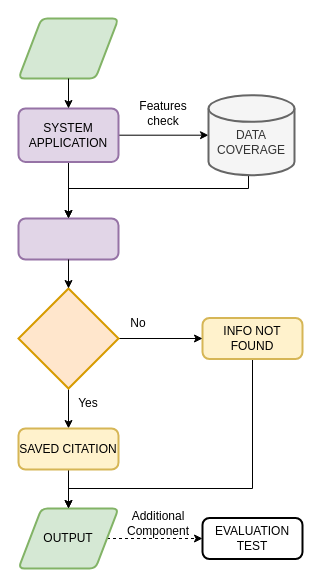
This 320x586 diagram has some shape labels left out. The shapes that lost their labels are listed below. From the top down, each one's centre as x and y in pixels, then its label:
(x=68, y=48): USER
(x=68, y=238): AI MODEL
(x=68, y=338): EVIDENCE
